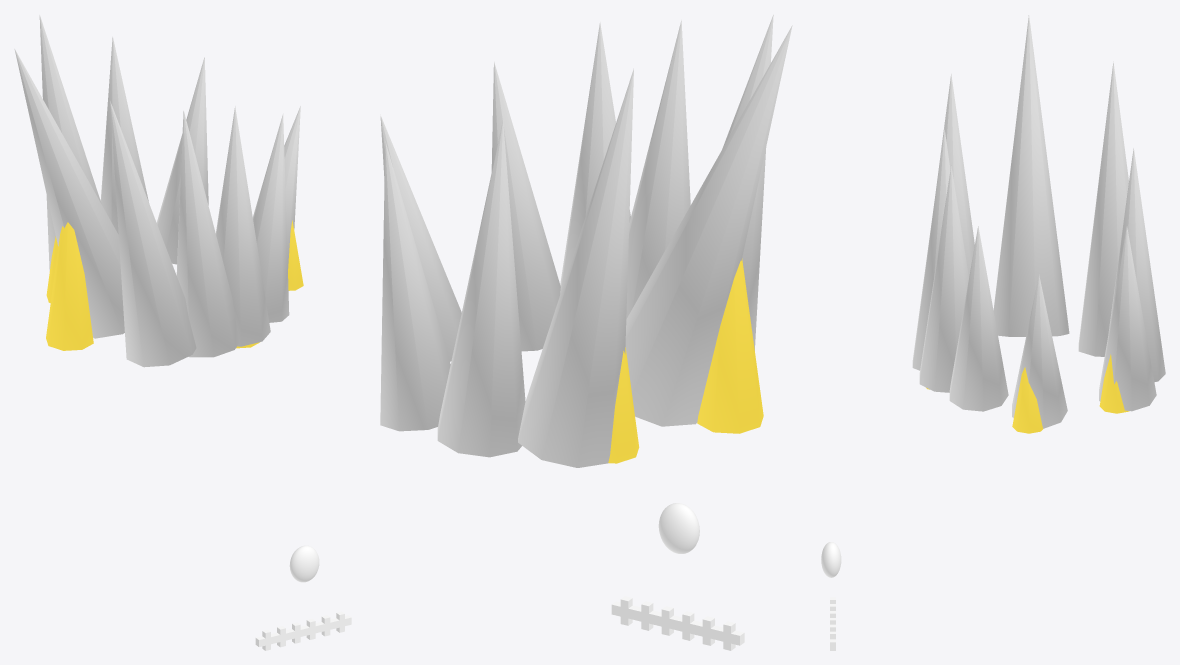
File: trait-oneoff-burning-skully.glb
The picture shows the model from 3 angles, left to right: view 1: azimuth 30°, elevation 25°; view 2: azimuth 150°, elevation 25°; view 3: azimuth 270°, elevation 25°; orthographic projection. The views are drawn at different scales.
Parts seen in each view (by area): view 1: trait_oneoff_bflame_1, trait_oneoff_bflame_0, trait_oneoff_bflame_3, trait_oneoff_bflame_4, trait_oneoff_bflame_5, trait_oneoff_bflame_c_0, trait_oneoff_bflame_8, trait_oneoff_bflame_7, trait_oneoff_bflame_2, trait_oneoff_bflame_6, trait_oneoff_bnose, trait_oneoff_stitchbar (+1 smaller); view 2: trait_oneoff_bflame_0, trait_oneoff_bflame_2, trait_oneoff_bflame_7, trait_oneoff_bflame_8, trait_oneoff_bflame_3, trait_oneoff_bflame_5, trait_oneoff_bflame_c_0, trait_oneoff_bflame_4, trait_oneoff_bflame_6, trait_oneoff_bflame_1, trait_oneoff_bflame_c_2, trait_oneoff_bnose (+1 smaller); view 3: trait_oneoff_bflame_0, trait_oneoff_bflame_2, trait_oneoff_bflame_5, trait_oneoff_bflame_4, trait_oneoff_bflame_8, trait_oneoff_bflame_6, trait_oneoff_bflame_7, trait_oneoff_bflame_3, trait_oneoff_bflame_1, trait_oneoff_bflame_c_6, trait_oneoff_bflame_c_8, trait_oneoff_bnose.
Boxes of the visible parts, bbox=[...] form: trait_oneoff_bflame_1: bbox=[110, 101, 196, 367]; trait_oneoff_bflame_0: bbox=[14, 49, 124, 338]; trait_oneoff_bflame_3: bbox=[176, 110, 239, 357]; trait_oneoff_bflame_4: bbox=[215, 106, 270, 346]; trait_oneoff_bflame_5: bbox=[253, 113, 289, 322]; trait_oneoff_bflame_c_0: bbox=[46, 222, 93, 350]; trait_oneoff_bflame_8: bbox=[156, 57, 208, 264]; trait_oneoff_bflame_7: bbox=[100, 36, 148, 234]; trait_oneoff_bflame_2: bbox=[39, 15, 101, 270]; trait_oneoff_bflame_6: bbox=[284, 106, 300, 268]; trait_oneoff_bnose: bbox=[289, 545, 319, 582]; trait_oneoff_stitchbar: bbox=[255, 615, 351, 646]; trait_oneoff_bflame_0: bbox=[625, 25, 792, 426]; trait_oneoff_bflame_2: bbox=[518, 68, 633, 467]; trait_oneoff_bflame_7: bbox=[437, 120, 525, 457]; trait_oneoff_bflame_8: bbox=[380, 141, 450, 431]; trait_oneoff_bflame_3: bbox=[626, 20, 690, 318]; trait_oneoff_bflame_5: bbox=[491, 61, 560, 351]; trait_oneoff_bflame_c_0: bbox=[697, 258, 763, 433]; trait_oneoff_bflame_4: bbox=[560, 22, 630, 293]; trait_oneoff_bflame_6: bbox=[380, 115, 461, 361]; trait_oneoff_bflame_1: bbox=[722, 14, 773, 350]; trait_oneoff_bflame_c_2: bbox=[608, 347, 639, 463]; trait_oneoff_bnose: bbox=[658, 503, 699, 553]; trait_oneoff_bflame_0: bbox=[993, 15, 1069, 336]; trait_oneoff_bflame_2: bbox=[1078, 61, 1128, 356]; trait_oneoff_bflame_5: bbox=[949, 226, 1008, 411]; trait_oneoff_bflame_4: bbox=[919, 165, 968, 392]; trait_oneoff_bflame_8: bbox=[1099, 226, 1156, 411]; trait_oneoff_bflame_6: bbox=[1012, 274, 1067, 428]; trait_oneoff_bflame_7: bbox=[1108, 148, 1165, 382]; trait_oneoff_bflame_3: bbox=[912, 128, 950, 370]; trait_oneoff_bflame_1: bbox=[936, 74, 974, 277]; trait_oneoff_bflame_c_6: bbox=[1012, 367, 1043, 433]; trait_oneoff_bflame_c_8: bbox=[1099, 354, 1129, 413]; trait_oneoff_bnose: bbox=[821, 542, 841, 577].
Bounding box in the file's own units: 0.9455 × 1.74 × 1.02.
